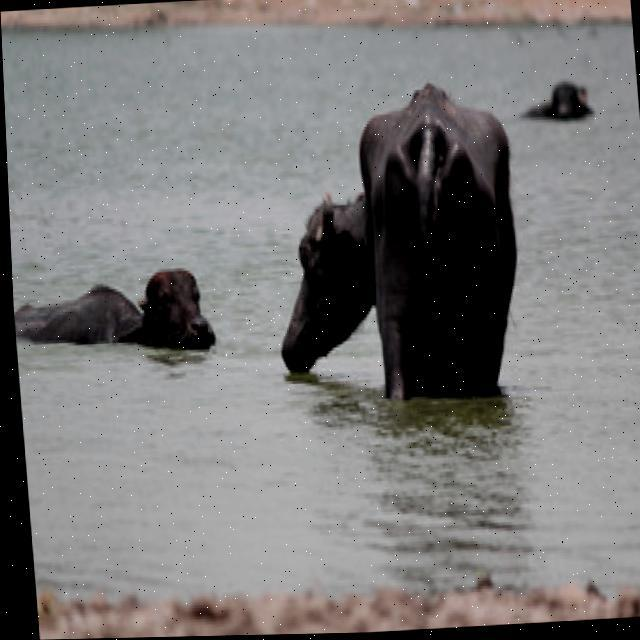Buffalo: (257, 68, 535, 424), (12, 255, 217, 356)
